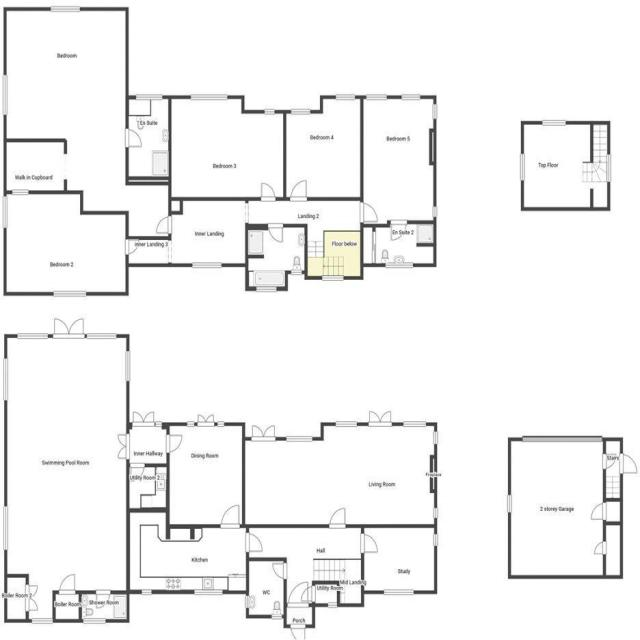DOOR: (328, 507, 346, 529), (245, 531, 263, 553), (360, 201, 378, 223), (289, 180, 307, 201), (125, 127, 142, 149), (361, 533, 378, 554), (267, 222, 284, 243), (155, 215, 172, 235), (166, 434, 182, 454), (95, 589, 111, 609), (260, 182, 276, 201), (272, 562, 287, 581), (124, 238, 140, 255)
DOUBLE DOOR: (53, 316, 85, 338), (250, 424, 276, 443), (368, 409, 393, 427), (132, 409, 156, 427), (116, 433, 130, 461), (196, 413, 215, 427)
ROOM: (3, 7, 172, 240), (242, 410, 438, 528), (2, 189, 140, 296), (168, 94, 287, 201), (126, 504, 263, 595), (360, 93, 438, 242), (165, 414, 246, 529), (283, 93, 364, 202), (360, 524, 438, 595)
WINDOW: (1, 502, 10, 552), (2, 355, 10, 402), (15, 330, 49, 341), (85, 331, 118, 342), (190, 93, 228, 100), (124, 350, 132, 383), (2, 74, 8, 116), (53, 290, 87, 297), (135, 93, 163, 101), (383, 589, 414, 596), (192, 261, 222, 268), (2, 195, 8, 229), (385, 262, 414, 269), (82, 617, 106, 625), (193, 589, 223, 595), (50, 6, 80, 12), (366, 93, 387, 101), (335, 93, 356, 101), (286, 436, 313, 442), (321, 275, 344, 282), (31, 617, 54, 624), (401, 93, 421, 101), (290, 108, 311, 115), (403, 421, 426, 427), (335, 421, 357, 427), (256, 286, 277, 292), (12, 189, 29, 196), (432, 104, 438, 119), (433, 533, 439, 547), (433, 431, 439, 445), (244, 595, 250, 609), (264, 108, 275, 115), (433, 507, 439, 519), (432, 206, 438, 218), (290, 269, 302, 275), (271, 614, 283, 620), (328, 602, 338, 609), (141, 589, 152, 595), (186, 421, 195, 427), (217, 421, 225, 427)
